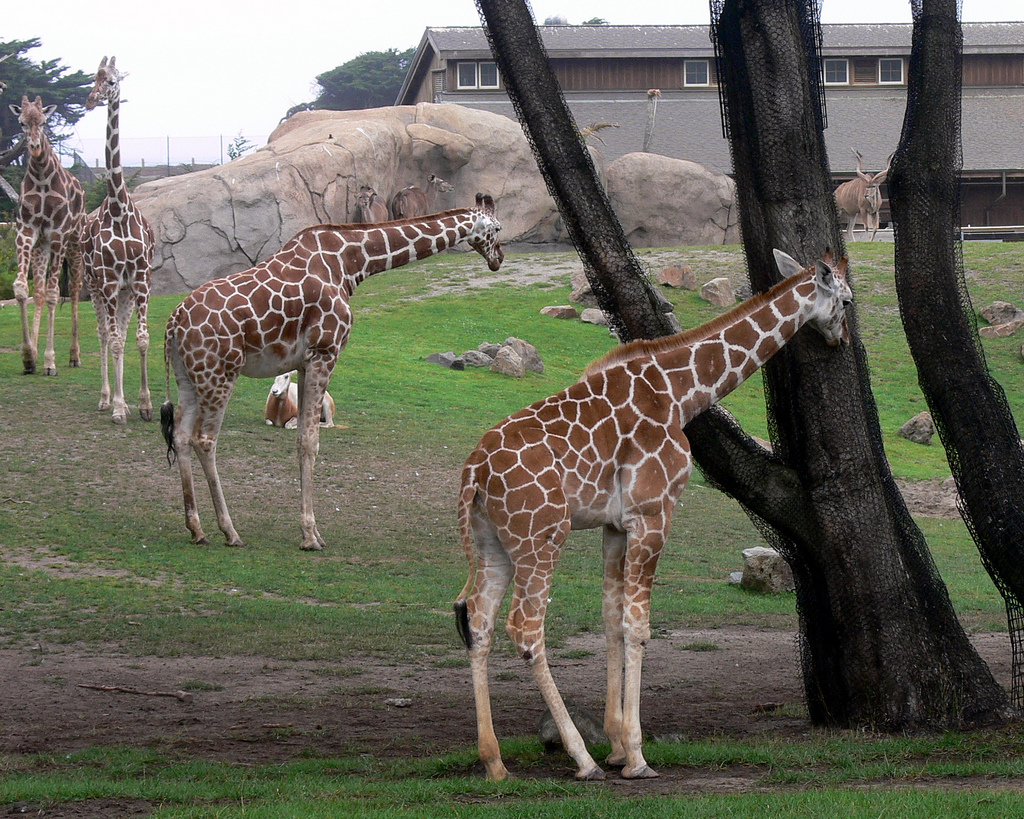giraffe: (434, 249, 893, 771), (141, 190, 528, 572), (78, 52, 159, 431), (11, 81, 75, 377)
